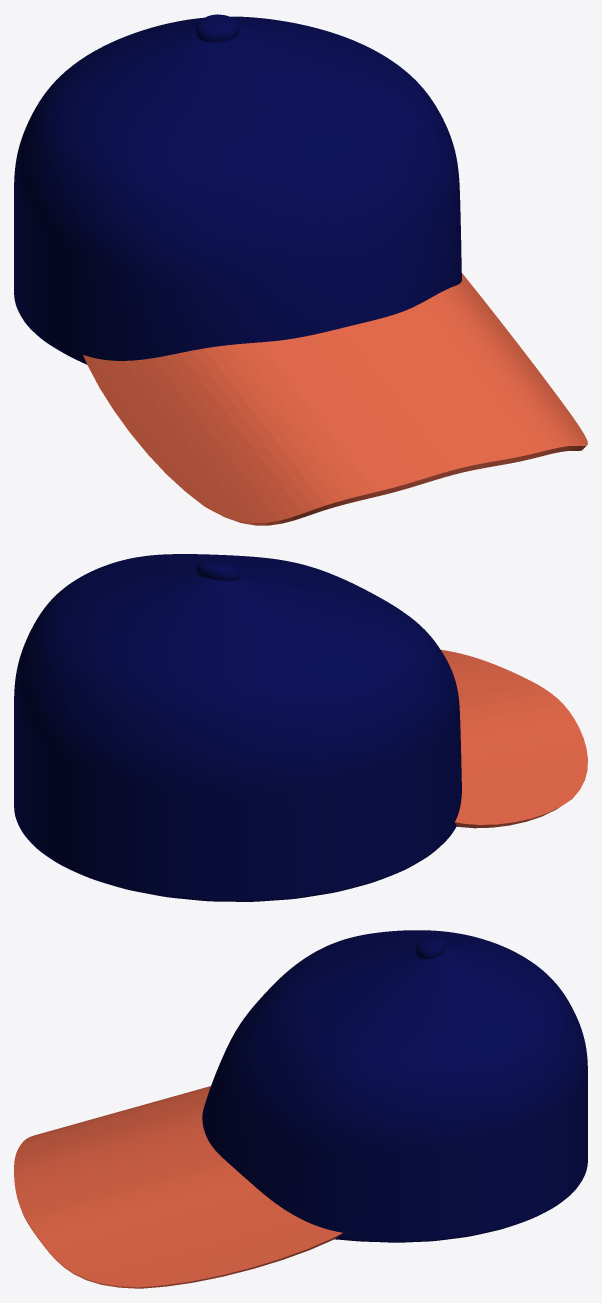
Rendered from Baseball cap model.fbx.
The picture shows the model from 3 angles, top to bottom: view 1: azimuth 30°, elevation 25°; view 2: azimuth 150°, elevation 25°; view 3: azimuth 270°, elevation 25°; orthographic projection. The views are drawn at different scales.
Visible parts, largest first — view 1: Cylinder, Plane; view 2: Cylinder, Plane; view 3: Cylinder, Plane.
Part boxes in pixels (x1=…): Cylinder: x1=14, y1=14, x2=461, y2=364; Plane: x1=83, y1=273, x2=587, y2=525; Cylinder: x1=14, y1=554, x2=461, y2=901; Plane: x1=441, y1=650, x2=587, y2=828; Cylinder: x1=202, y1=930, x2=587, y2=1242; Plane: x1=14, y1=1086, x2=342, y2=1288.
Bounding box in the file's own units: 199 × 158 × 298.
